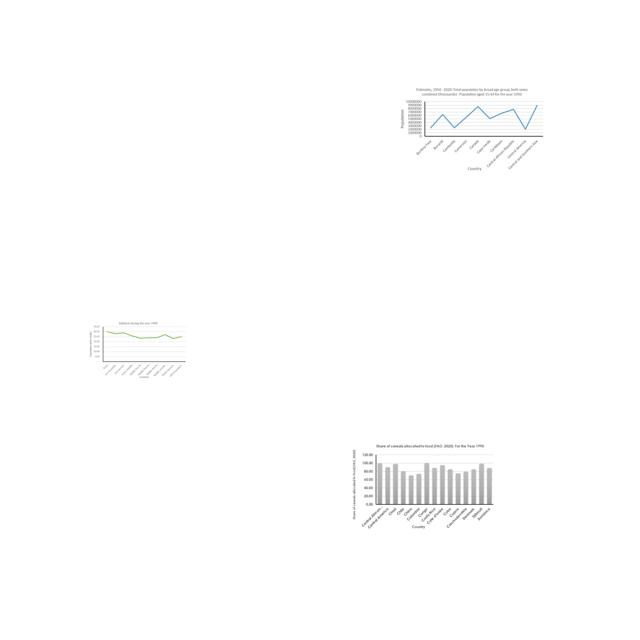Graph: (347, 442, 498, 533), (398, 85, 546, 173), (89, 321, 187, 379)
